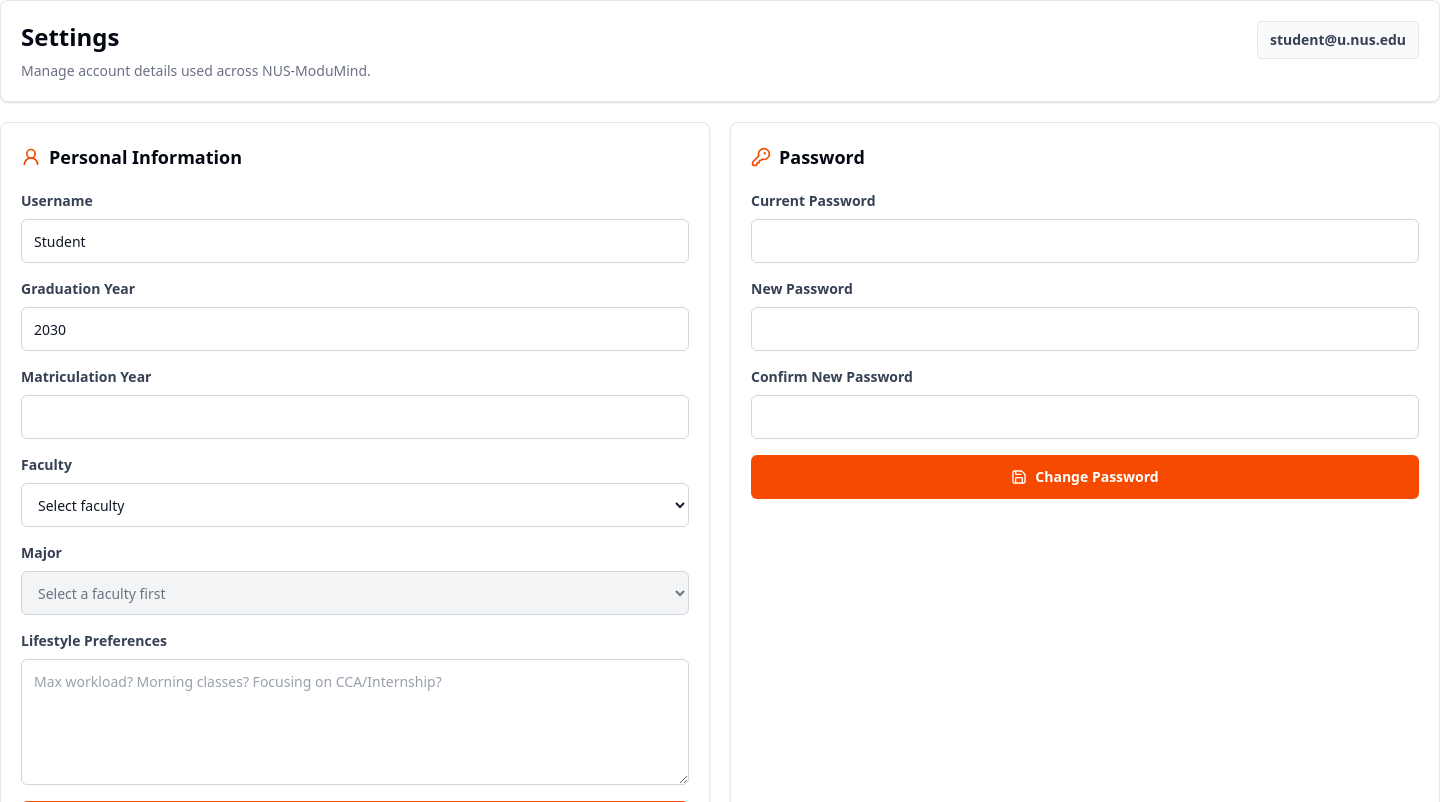
Test: SettingsPage › validates password confirmation
Type "old-password" into the password field labelled "Current Password" at x=1085, y=241, box [751,219,1419,263]
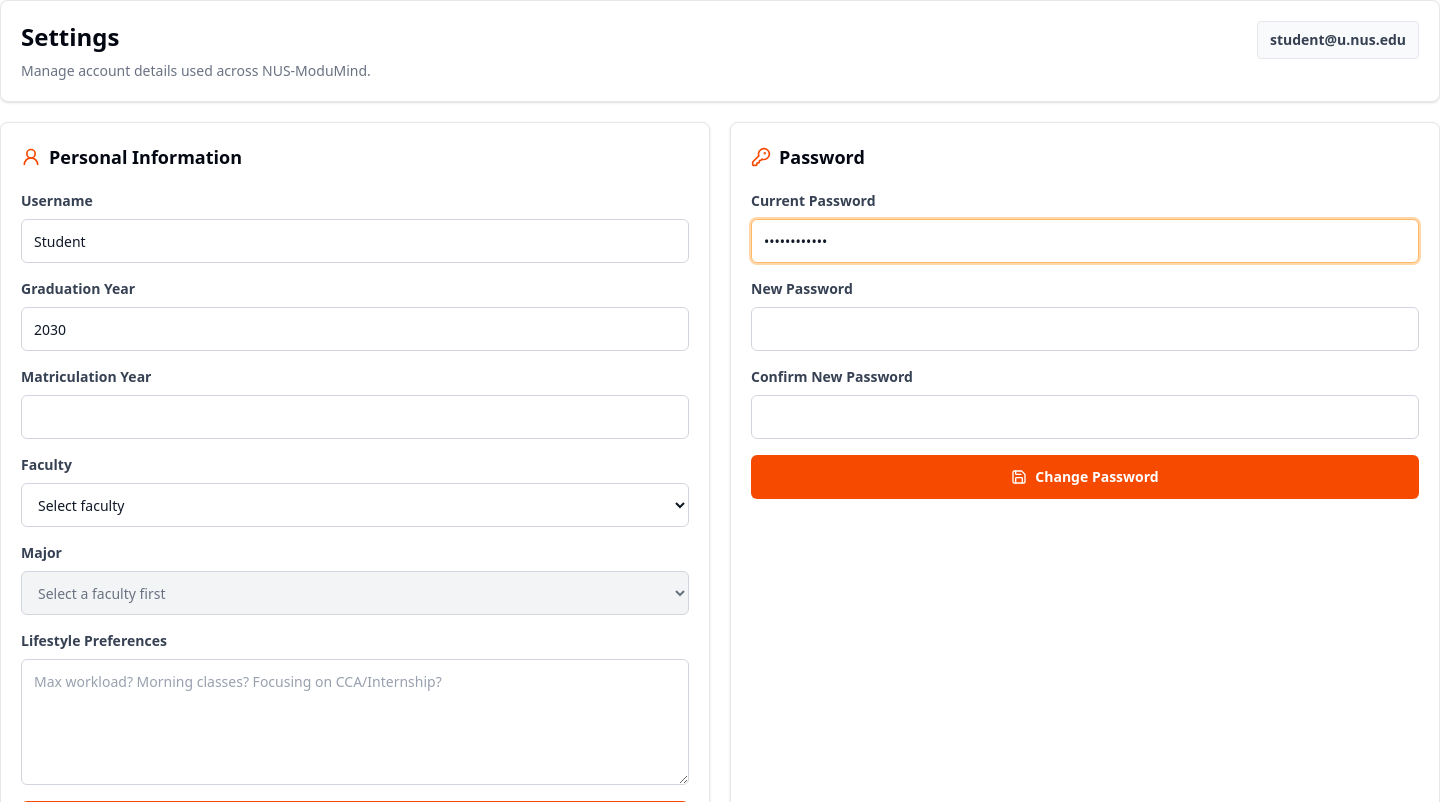
Type "new-password" into the password field labelled "New Password" at x=1085, y=329, box [751,307,1419,351]
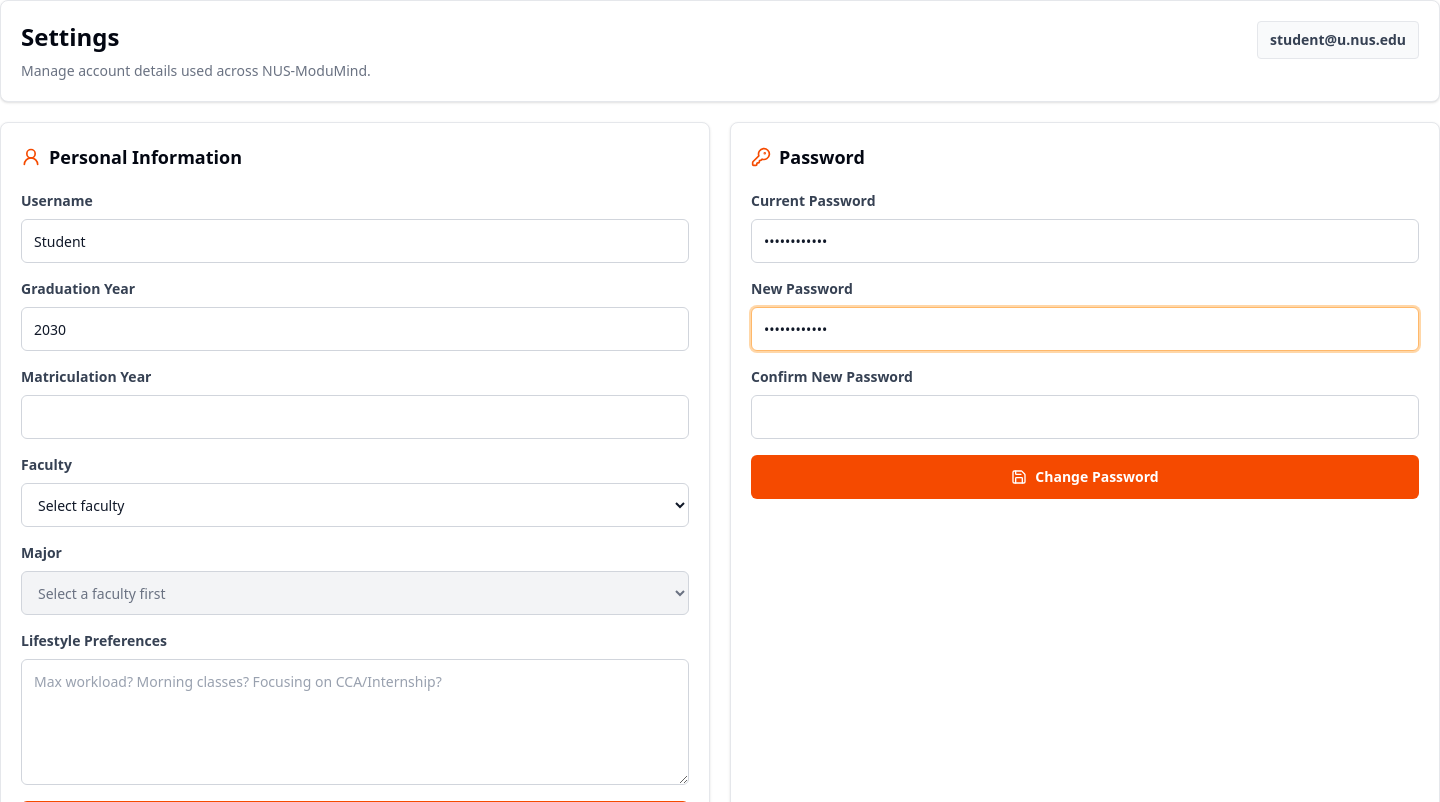
Type "different-password" into the password field labelled "Confirm New Password" at x=1085, y=417, box [751,395,1419,439]
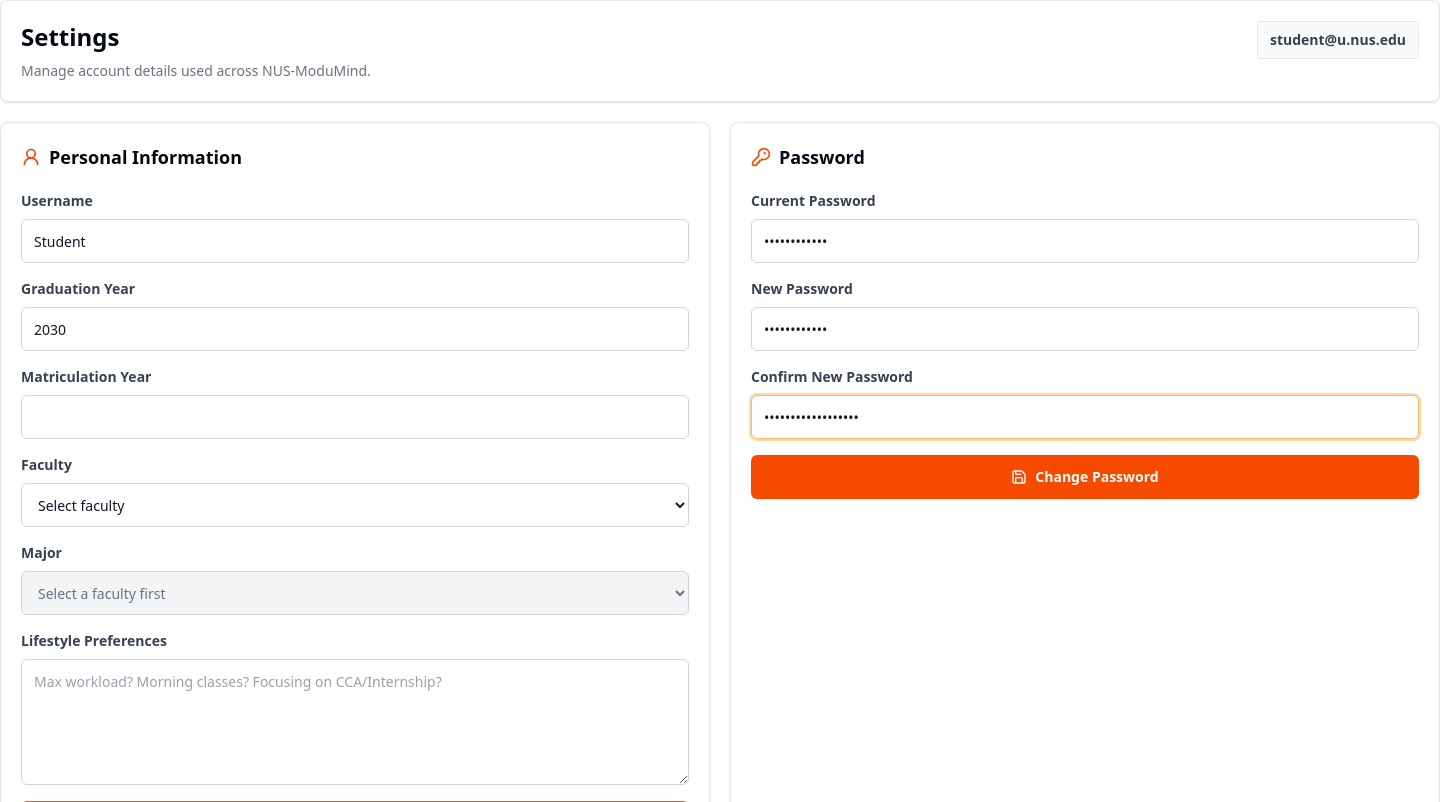
Click the button "Change Password" at x=1085, y=477, box [751,455,1419,499]
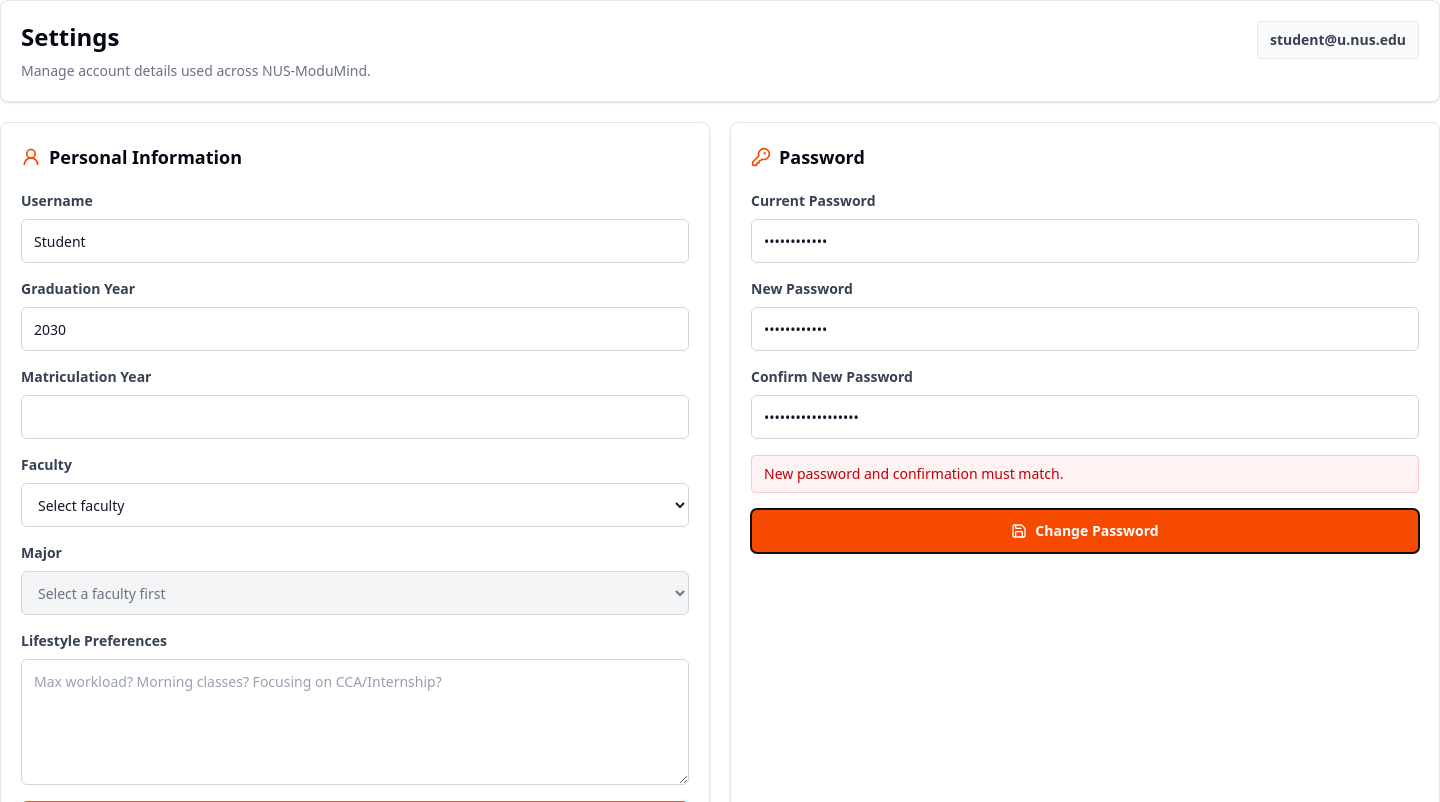
Expected: the text "New password and confirmation must match." is shown, [751,455,1419,493]
